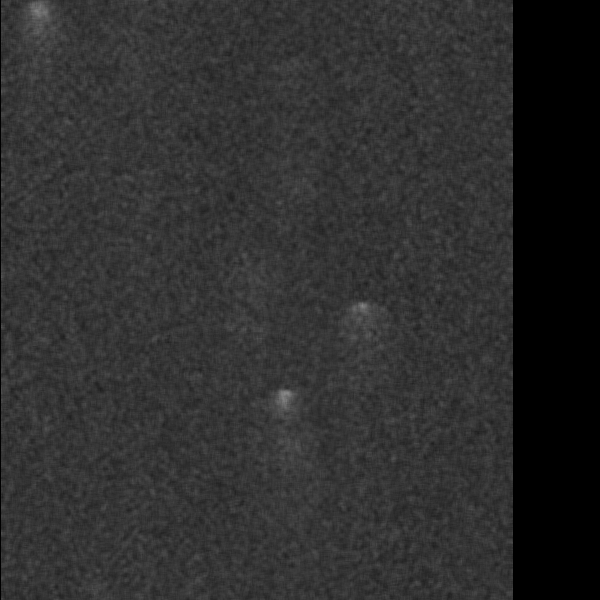spark: (296, 170, 345, 242)
